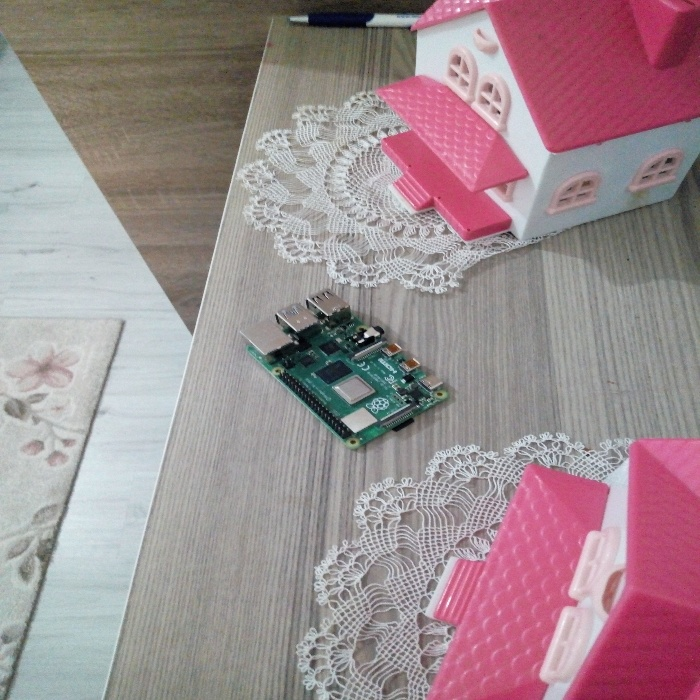raspberry: (225, 282, 456, 448)
